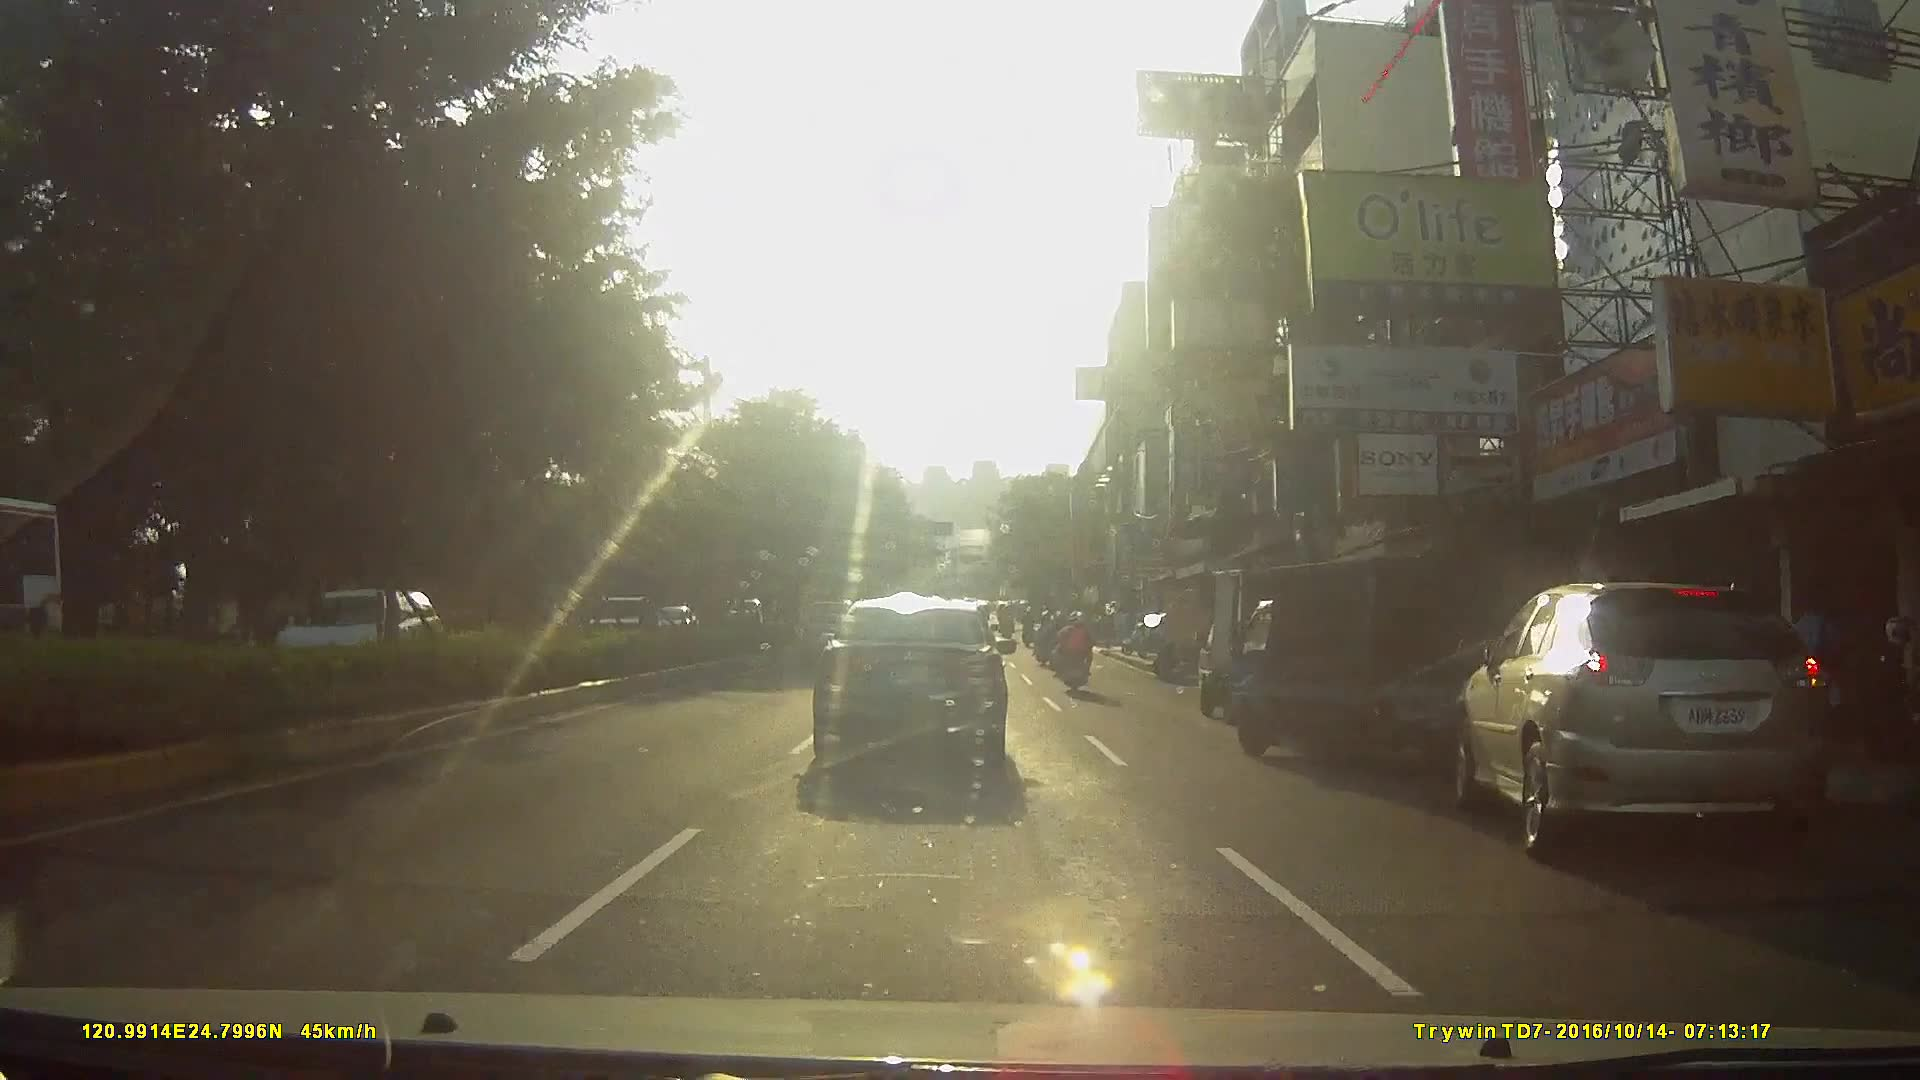pedestrian: (1785, 587, 1852, 750)
rider: (1052, 607, 1094, 697), (1034, 607, 1057, 664)
vehicle: (1450, 567, 1878, 879), (1220, 544, 1513, 782), (810, 590, 1029, 779), (259, 581, 446, 691)
